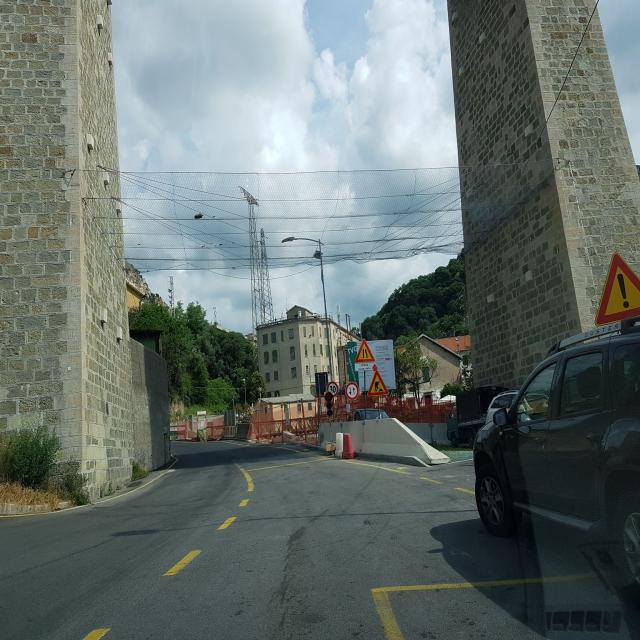car: (473, 309, 640, 603), (450, 0, 542, 124), (352, 408, 389, 421)
